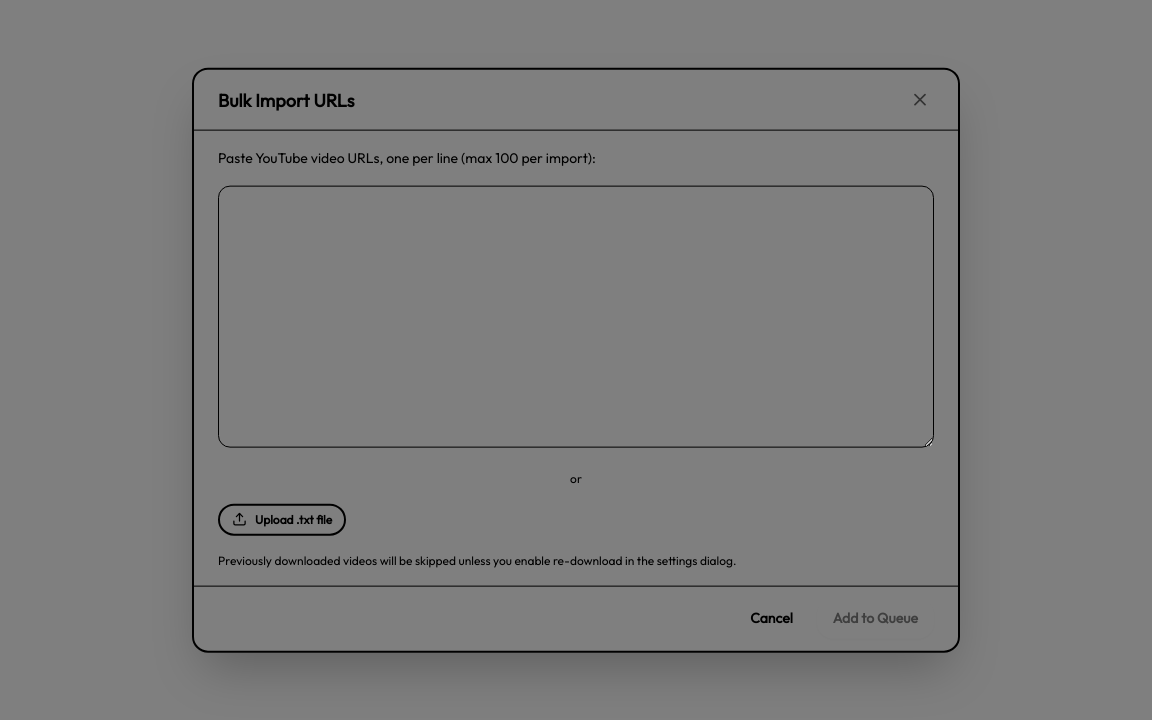
Test case: BulkImportDialog › URL Parsing › detects duplicates against existing queue
The width and height of the screenshot is (1152, 720).
Replace the text in the text box with test id "bulk-import-textarea" with "https://www.youtube.com/watch?v=dQw4w9WgXcQ": (576,316) x1=218 y1=185 x2=934 y2=447
Wait 300 ms
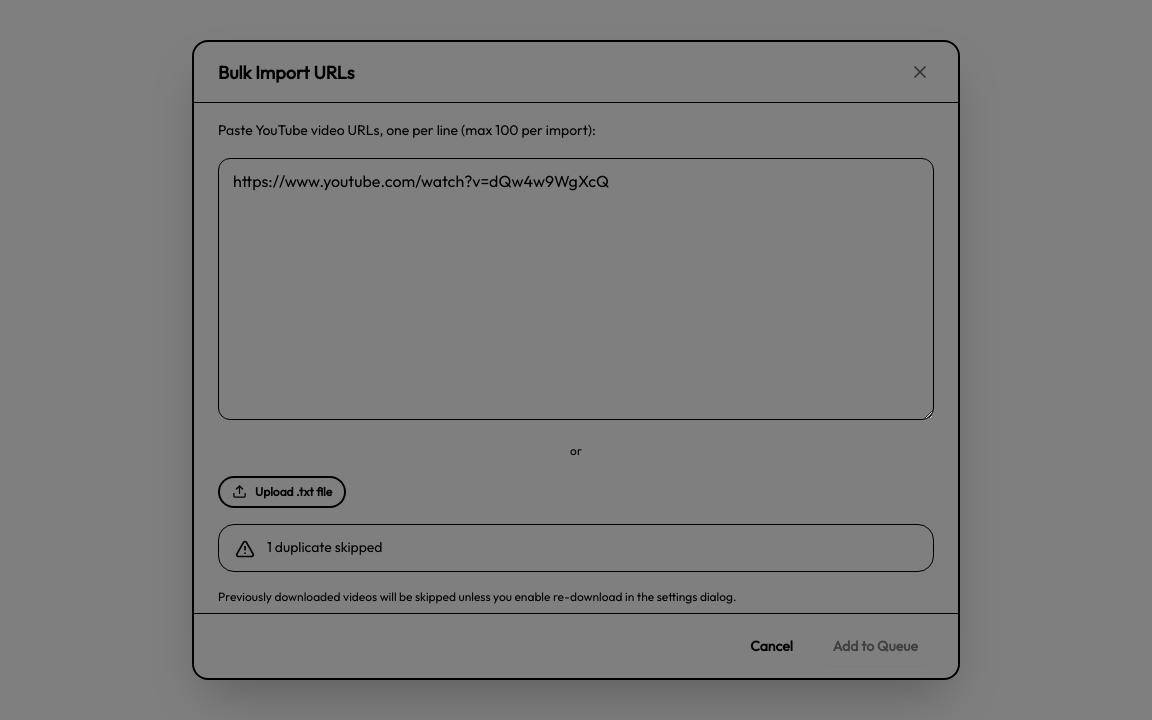
Expected: the button with test id "bulk-import-confirm" is disabled, x1=817 y1=626 x2=934 y2=666
Expected: the text "1 duplicate skipped" is shown, x1=267 y1=538 x2=382 y2=556
